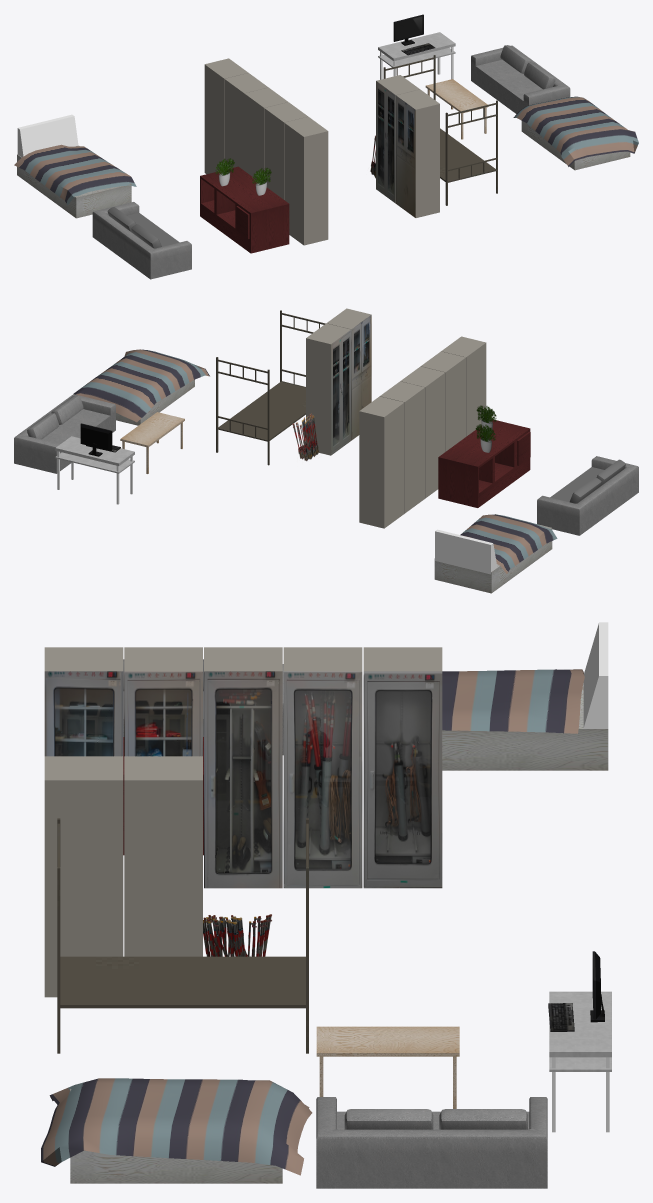
3 views of the same model, one above another, from view 1: azimuth 30°, elevation 25°; view 2: azimuth 150°, elevation 25°; view 3: azimuth 270°, elevation 25° (orthographic). The views are drawn at different scales.
Visible parts, largest first — view 1: 26-材质.99 (×6), 26-材质.72, 26-材质 (×3), 26-Material #357 (×2), 26-床1, 26-CS-NX-ZW-007 (×2), 26-桌子, 26-电脑.1; view 2: 26-材质.99 (×7), 26-材质.72, 26-材质 (×3), 26-床1, 26-Material #357 (×2), 26-CS-NX-ZW-007 (×2), 26-桌子, 26-电脑.1, 26; view 3: 26-材质.99 (×8), 26-材质.72, 26-材质 (×2), 26-床1, 26-Material #357 (×2), 26-桌子, 26-CS-NX-ZW-007 (×2), 26-电脑.1.
Boxes of the visible parts, x1=… form: 26-材质.99 (×6): x1=17, y1=45, x2=570, y2=279; 26-材质.72: x1=204, y1=58, x2=439, y2=245; 26-材质 (×3): x1=14, y1=96, x2=638, y2=205; 26-Material #357 (×2): x1=17, y1=121, x2=630, y2=218; 26-床1: x1=383, y1=55, x2=497, y2=205; 26-CS-NX-ZW-007 (×2): x1=378, y1=32, x2=455, y2=67; 26-桌子: x1=425, y1=79, x2=488, y2=139; 26-电脑.1: x1=393, y1=14, x2=435, y2=55; 26-材质.99 (×7): x1=14, y1=315, x2=638, y2=574; 26-材质.72: x1=306, y1=308, x2=486, y2=528; 26-材质 (×3): x1=73, y1=349, x2=557, y2=573; 26-床1: x1=216, y1=310, x2=325, y2=465; 26-Material #357 (×2): x1=116, y1=379, x2=552, y2=593; 26-CS-NX-ZW-007 (×2): x1=55, y1=436, x2=134, y2=473; 26-桌子: x1=120, y1=412, x2=184, y2=473; 26-电脑.1: x1=80, y1=423, x2=120, y2=456; 26: x1=57, y1=451, x2=132, y2=504; 26-材质.99 (×8): x1=44, y1=622, x2=608, y2=1188; 26-材质.72: x1=44, y1=647, x2=442, y2=997; 26-材质 (×2): x1=41, y1=669, x2=584, y2=1175; 26-床1: x1=57, y1=818, x2=308, y2=1053; 26-Material #357 (×2): x1=70, y1=683, x2=608, y2=1183; 26-桌子: x1=316, y1=1026, x2=459, y2=1108; 26-CS-NX-ZW-007 (×2): x1=549, y1=991, x2=611, y2=1071; 26-电脑.1: x1=548, y1=951, x2=604, y2=1031.
Bounding box in the file's own units: 8.52 × 1.96 × 4.22.
Materials: 20 (17 with a texture image).
